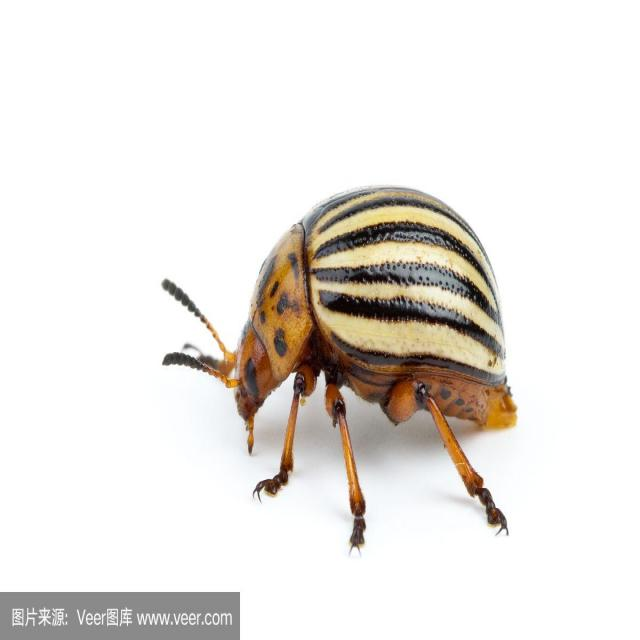ShuCaiHuaBanChong-Grown-: (209, 180, 543, 547)
